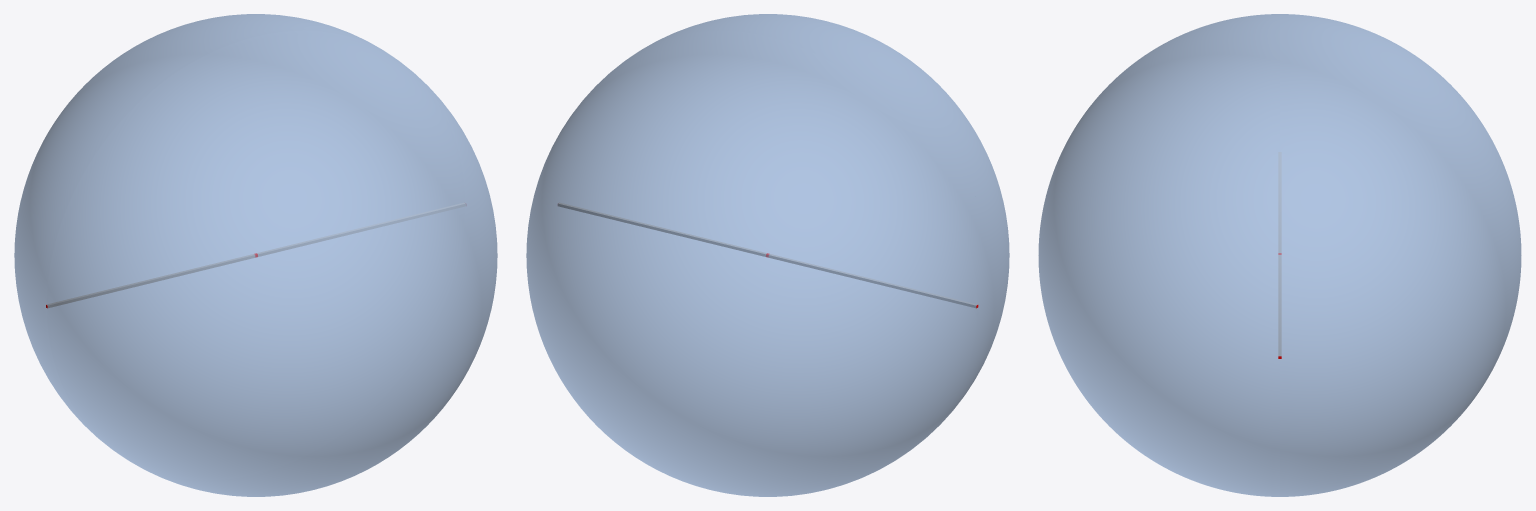
3 renders of one model, left to right at view 1: azimuth 30°, elevation 25°; view 2: azimuth 150°, elevation 25°; view 3: azimuth 270°, elevation 25°, orthographic.
Parts seen in each view (by area): view 1: Sfera; view 2: Sfera; view 3: Sfera.
Part boxes in pixels (bbox=[...]): Sfera: bbox=[14, 14, 497, 496]; Sfera: bbox=[526, 14, 1009, 496]; Sfera: bbox=[1038, 14, 1521, 496].
Bounding box in the file's own units: 80.09 × 80 × 80.
